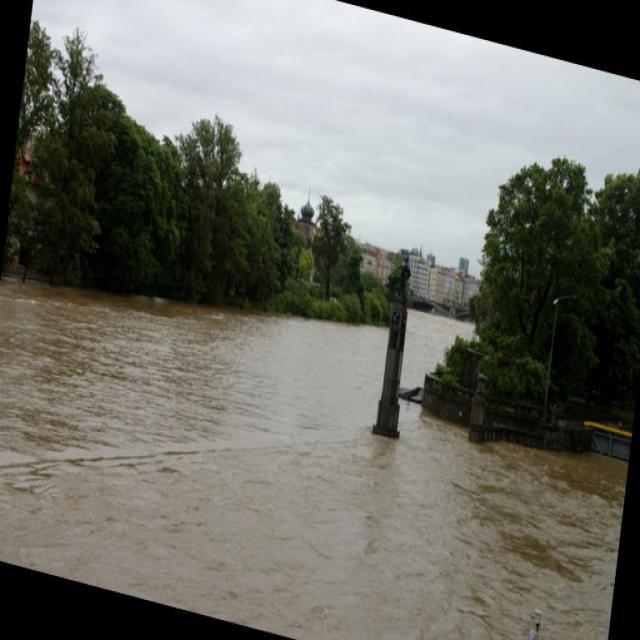flood: (0, 198, 639, 639)
